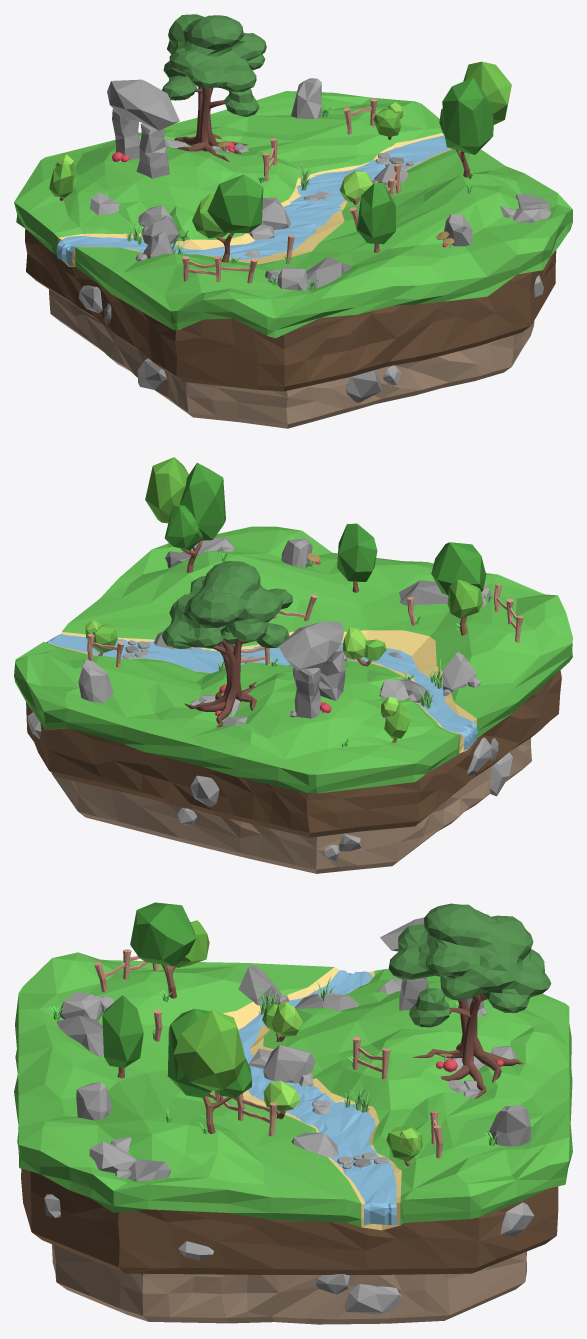
File: river.glb
The picture shows the model from 3 angles, top to bottom: view 1: azimuth 30°, elevation 25°; view 2: azimuth 150°, elevation 25°; view 3: azimuth 270°, elevation 25°; orthographic projection. The views are drawn at different scales.
Parts seen in each view (by area): view 1: Plane.001, Cube.002, Cube.003, Mball.016, Plane.003, Cube, Cube.030, Cube.035, Icosphere.019, Icosphere.012, Cube.041, Icosphere.008 (+9 smaller); view 2: Plane.001, Cube.002, Cube.003, Mball.016, Cube.030, Plane.003, Cube, Cube.035, Icosphere.019, Icosphere.012, Cube.031, Cube.041 (+7 smaller); view 3: Plane.001, Cube.002, Cube.003, Mball.016, Plane.003, Cube.030, Cube.035, Icosphere.019, Cube.008, Icosphere.012, Icosphere.000, Cube (+15 smaller).
Part boxes in pixels (bbox=[...]): Plane.001: bbox=[14, 91, 572, 338]; Cube.002: bbox=[25, 229, 556, 391]; Cube.003: bbox=[49, 289, 534, 428]; Mball.016: bbox=[162, 14, 266, 161]; Plane.003: bbox=[56, 135, 450, 265]; Cube: bbox=[107, 79, 179, 178]; Cube.030: bbox=[439, 61, 511, 177]; Cube.035: bbox=[192, 174, 263, 262]; Icosphere.019: bbox=[356, 183, 395, 252]; Icosphere.012: bbox=[291, 78, 321, 118]; Cube.041: bbox=[49, 154, 73, 200]; Icosphere.008: bbox=[306, 257, 351, 288]; Plane.001: bbox=[14, 526, 572, 793]; Cube.002: bbox=[26, 670, 561, 837]; Cube.003: bbox=[51, 738, 531, 873]; Mball.016: bbox=[162, 561, 292, 727]; Cube.030: bbox=[145, 457, 225, 572]; Plane.003: bbox=[46, 634, 477, 750]; Cube: bbox=[278, 621, 345, 718]; Cube.035: bbox=[431, 542, 486, 635]; Icosphere.019: bbox=[337, 523, 377, 592]; Icosphere.012: bbox=[78, 659, 113, 702]; Cube.031: bbox=[342, 627, 386, 666]; Cube.041: bbox=[381, 696, 409, 742]; Plane.001: bbox=[14, 952, 572, 1230]; Cube.002: bbox=[21, 1168, 558, 1274]; Cube.003: bbox=[52, 1244, 526, 1324]; Mball.016: bbox=[388, 903, 551, 1098]; Plane.003: bbox=[238, 970, 396, 1225]; Cube.030: bbox=[167, 1008, 251, 1133]; Cube.035: bbox=[130, 902, 209, 998]; Icosphere.019: bbox=[102, 995, 143, 1078]; Cube.008: bbox=[263, 1045, 315, 1083]; Icosphere.012: bbox=[488, 1105, 531, 1146]; Icosphere.000: bbox=[344, 1284, 402, 1314]; Cube: bbox=[380, 914, 489, 1010].
Size of the model in its own units: 6.25 by 3.81 by 6.2.
